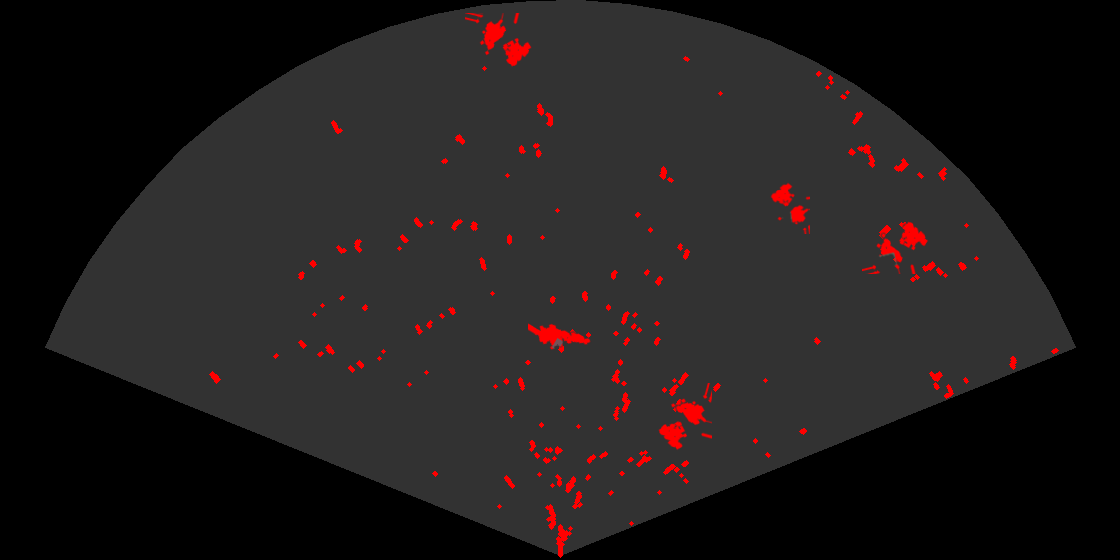cage: (657, 383, 712, 452), (465, 13, 533, 68), (862, 220, 930, 274), (769, 181, 810, 234)
frogman: (528, 322, 592, 351)
